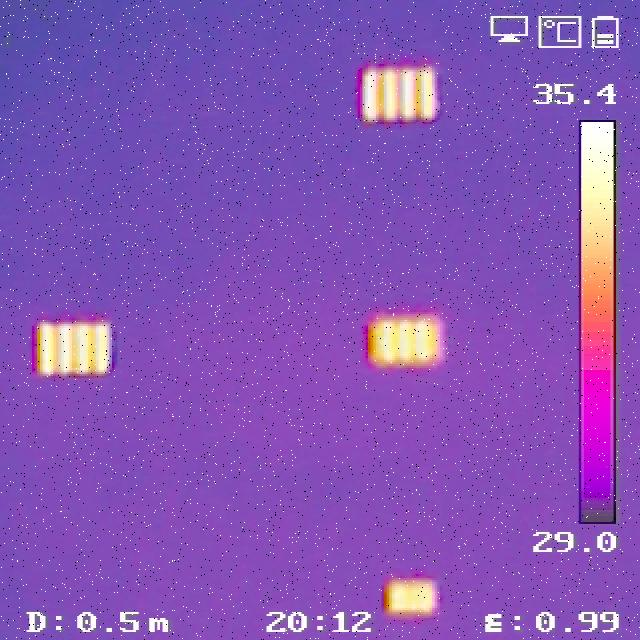Distinguishable 4-bar target: (361, 63, 440, 119), (41, 322, 111, 371)
Indistinguishable 4-bar target: (396, 586, 432, 609)
threshold 4-bar target: (381, 318, 440, 364)
